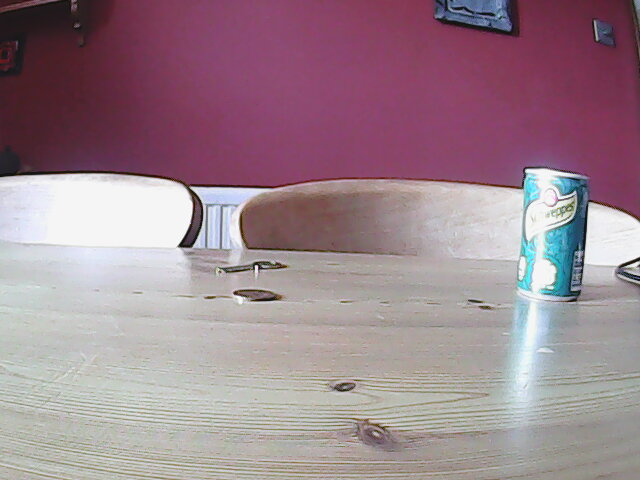Can: (514, 164, 588, 304)
Coin: (229, 285, 278, 304)
Key: (215, 256, 283, 278)
